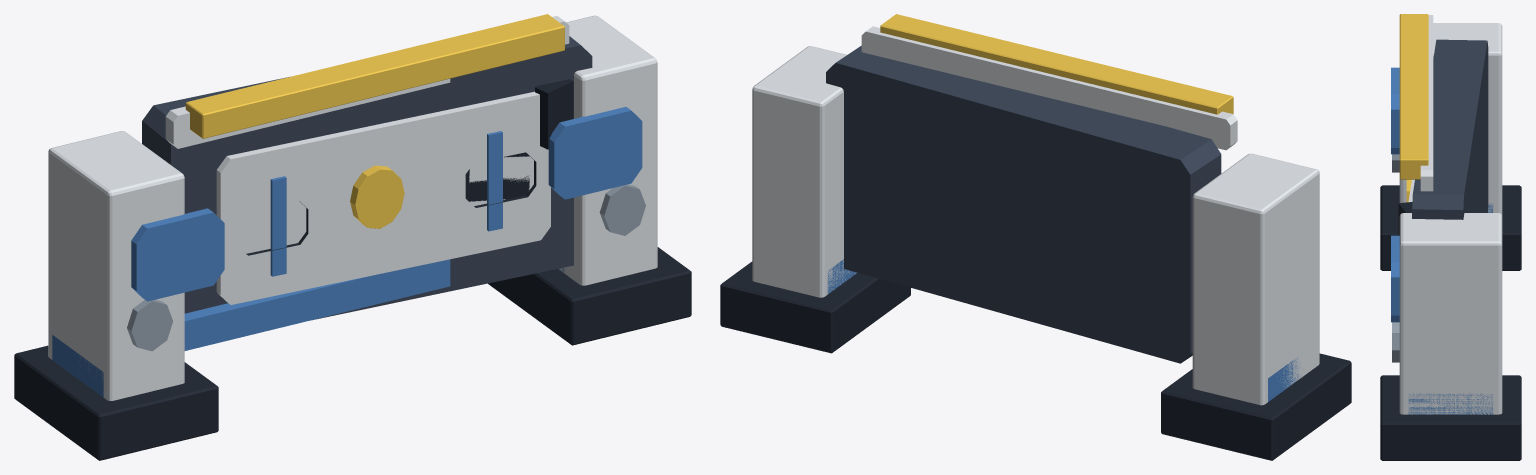
The model's file is barricade__damaged.glb.
3 views of the same model, side by side, from view 1: azimuth 30°, elevation 25°; view 2: azimuth 150°, elevation 25°; view 3: azimuth 270°, elevation 25° (orthographic). The views are drawn at different scales.
Parts seen in each view (by area): view 1: ROLE_secondary, ROLE_accent, ROLE_rubber, ROLE_primary, ROLE_warning, ROLE_bareMetal; view 2: ROLE_primary, ROLE_secondary, ROLE_rubber, ROLE_warning, ROLE_accent; view 3: ROLE_secondary, ROLE_rubber, ROLE_primary, ROLE_warning, ROLE_accent, ROLE_bareMetal.
Part boxes in pixels (x1,y1,x2,y2): ROLE_secondary: (48,15,657,400); ROLE_accent: (52,107,642,397); ROLE_rubber: (14,79,691,460); ROLE_primary: (142,36,592,320); ROLE_warning: (185,14,564,228); ROLE_bareMetal: (127,184,645,351); ROLE_primary: (826,45,1221,363); ROLE_secondary: (752,26,1319,405); ROLE_rubber: (720,261,1351,460); ROLE_warning: (880,14,1233,114); ROLE_accent: (827,259,1300,401); ROLE_secondary: (1399,15,1502,414); ROLE_rubber: (1380,185,1521,460); ROLE_primary: (1412,39,1488,219); ROLE_warning: (1399,14,1428,202); ROLE_accent: (1391,67,1493,414); ROLE_bareMetal: (1392,154,1399,362).
Bounding box in the file's own units: 8 × 4 × 2.
